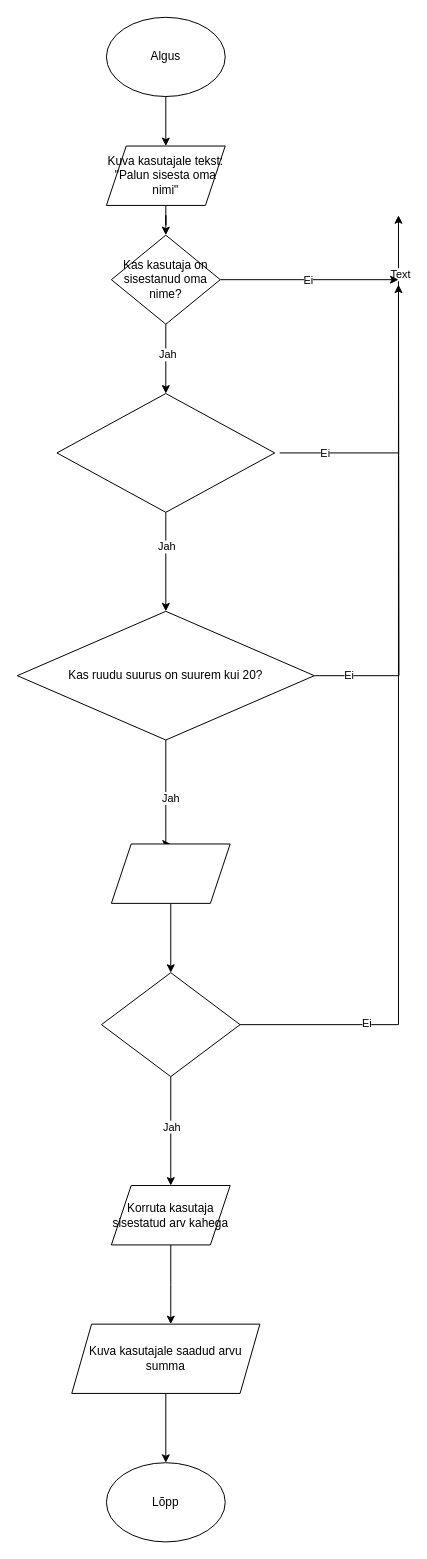
Some shapes in this 427 by 1559 pixel diagram are drawn without their labels. The box of each missing label's shape, as (x1, y1, x2, y2) in pixels:
Kas kasutaja on sisestanud oma ruudu andmed?: (100, 972, 240, 1077)
Kas ruudu suurus on väiksem kui 0?: (56, 393, 275, 512)
Kuva kasutajale tekst "Mis on sinu ruudu suurus?": (110, 843, 230, 903)
